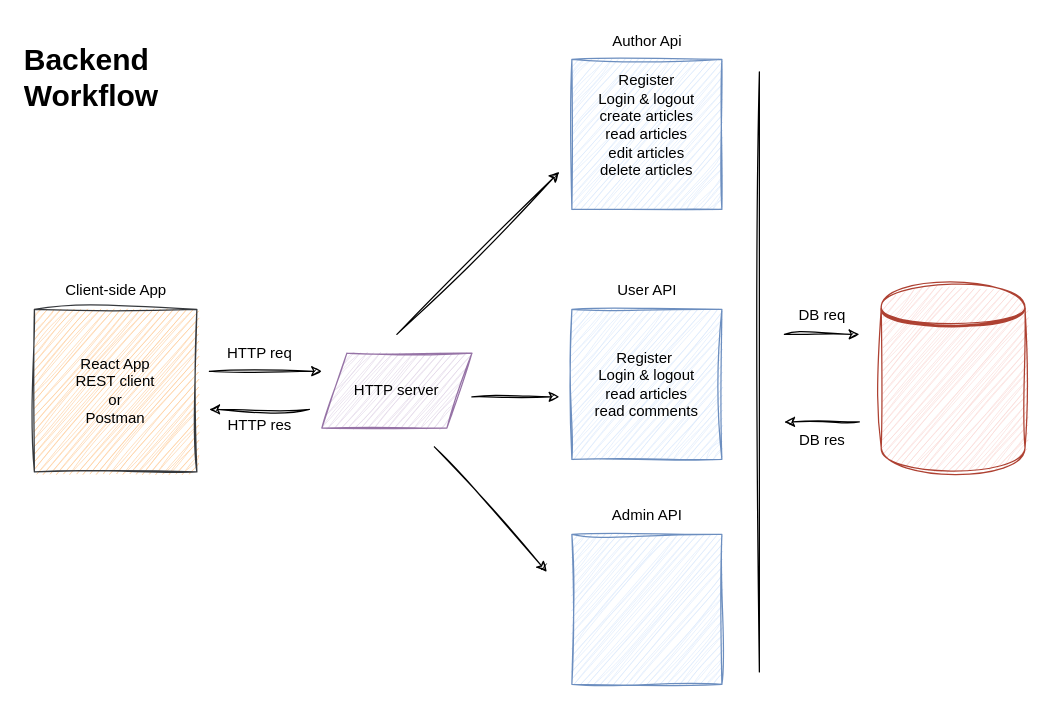
The diagram is 1046 pixels wide and 706 high, and some of its shapes have lost their labels. The shapes that lost their labels are listed below. From the top down, each one's centre as x and y in pixels, then its label:
the point at 952,377: Database
the point at 646,608: Login & logout read article block/unblock users
